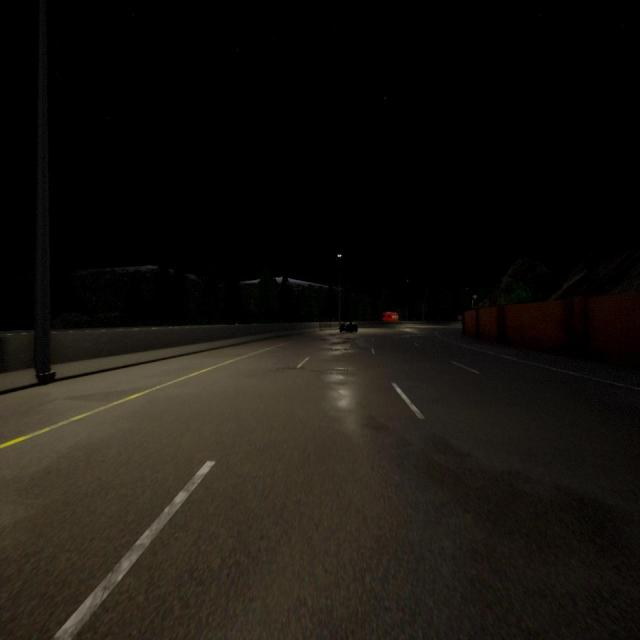Traffic_Signs: (458, 315, 462, 320)
Vehicle: (339, 321, 358, 334), (381, 312, 398, 322)
